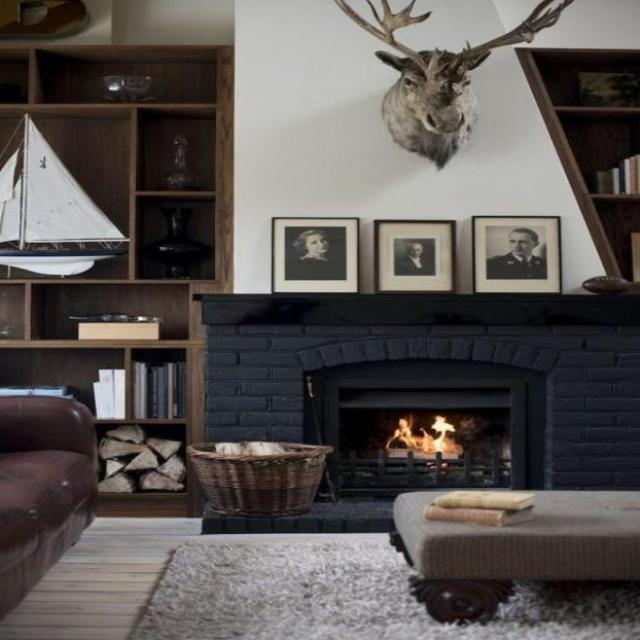smoke: (384, 412, 466, 462)
